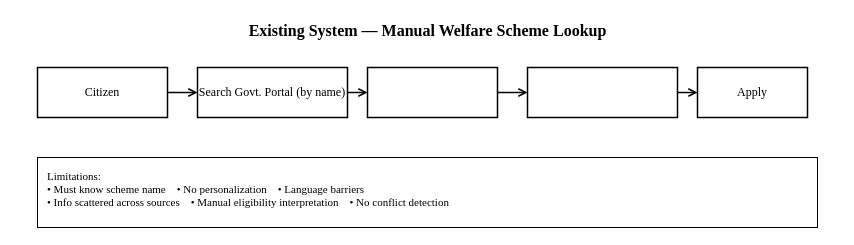
The diagram is 854 pixels wide and 245 high, and some of its shapes have lost their labels. Each missing label, with the box of its shape:
Check Eligibility (manual): (526, 66, 678, 118)
Find Scheme: (366, 66, 498, 118)
